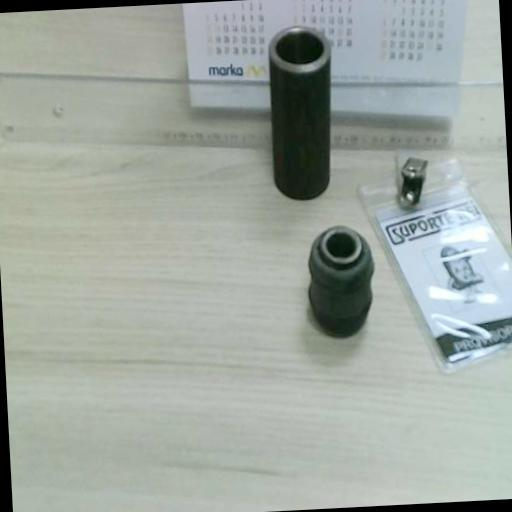peca: (268, 24, 331, 199), (308, 226, 374, 337)
